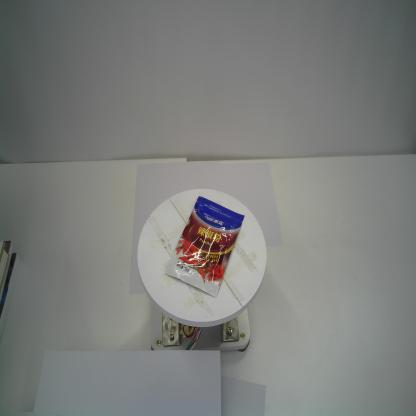Seasoner: (163, 195, 245, 298)
